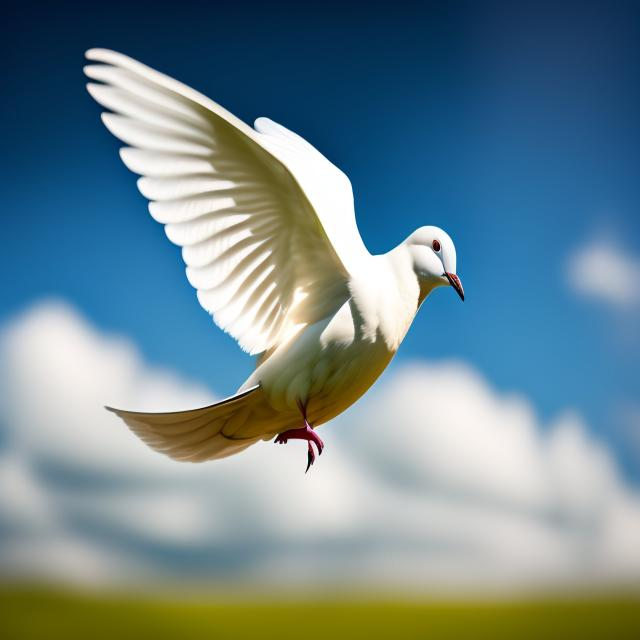pigeon: (64, 27, 471, 507)
